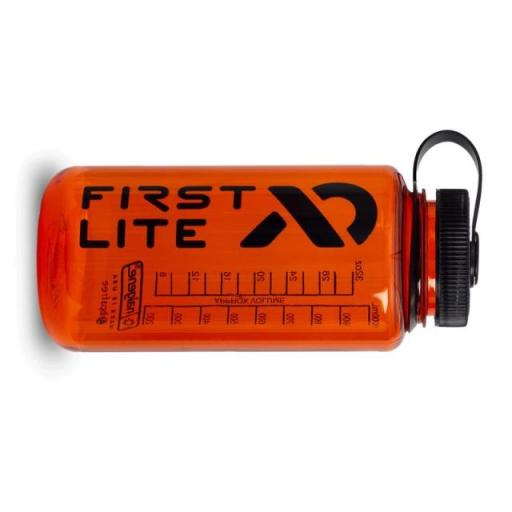bottle: (39, 125, 482, 354)
